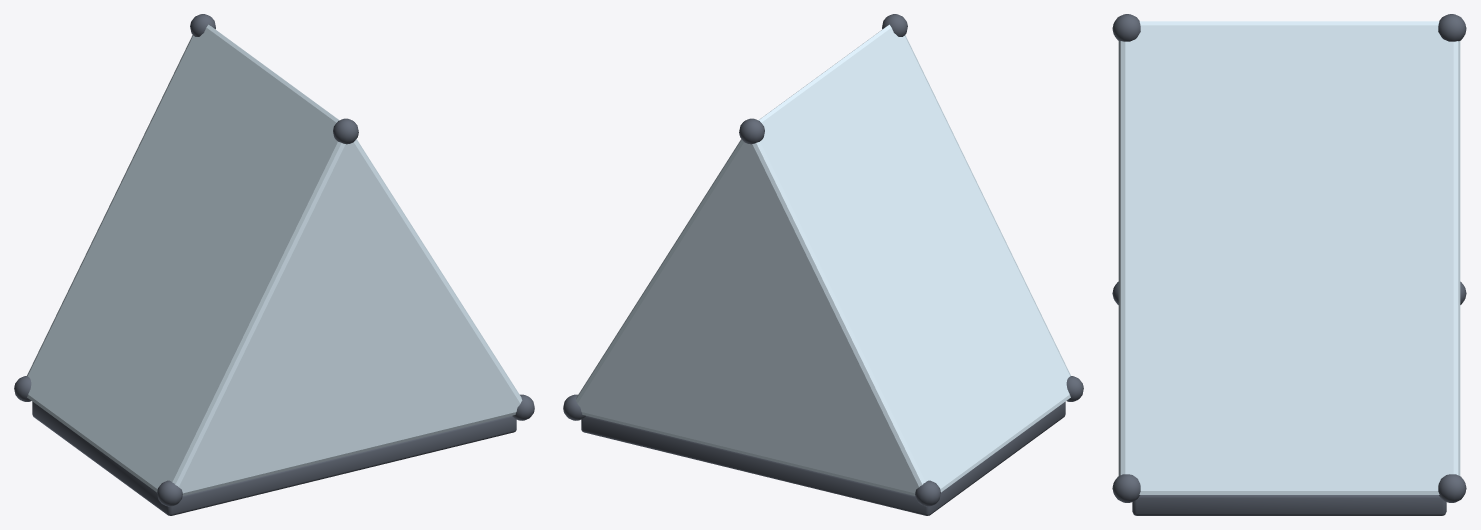
File: optical_prism.glb
The picture shows the model from 3 angles, left to right: view 1: azimuth 30°, elevation 25°; view 2: azimuth 150°, elevation 25°; view 3: azimuth 270°, elevation 25°; orthographic projection. The views are drawn at different scales.
Parts seen in each view (by area): view 1: PrismGlass; view 2: PrismGlass; view 3: PrismGlass.
Boxes of the visible parts, x1,y1,x2,y2 form: PrismGlass: (14,14,534,515); PrismGlass: (563,14,1083,515); PrismGlass: (1112,14,1466,515).
Size of the model in its own units: 4.6 by 4.2 by 3.32.
